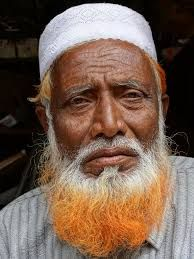no-mask: (35, 7, 177, 201)
